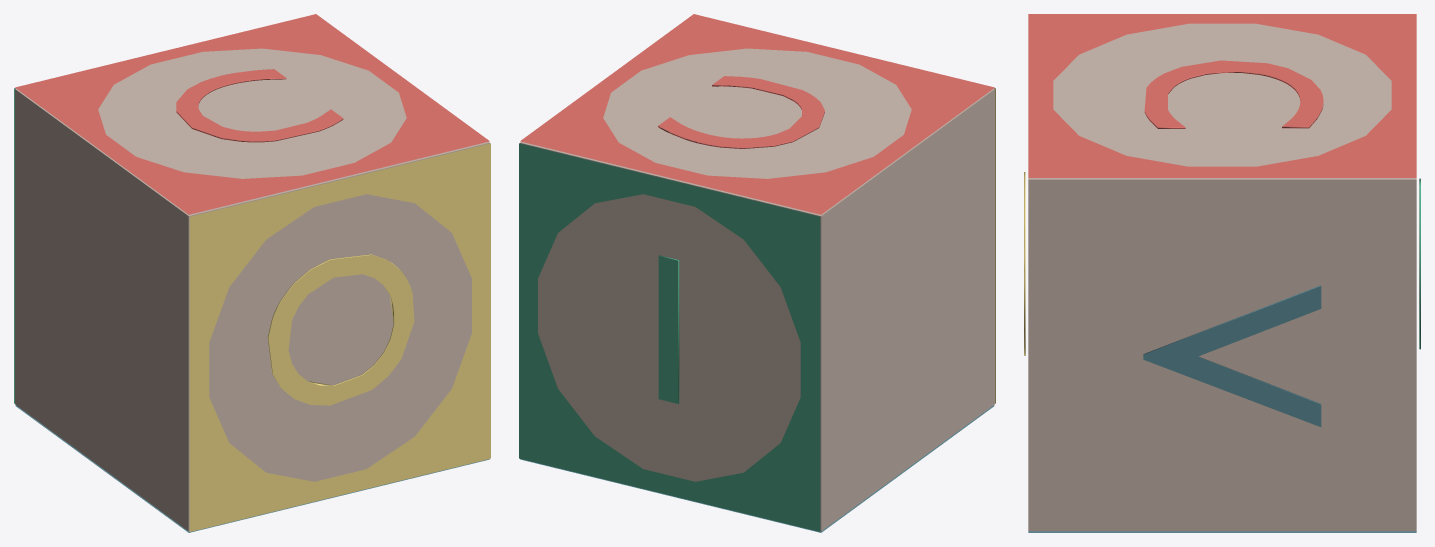
The picture shows the model from 3 angles, left to right: view 1: azimuth 30°, elevation 25°; view 2: azimuth 150°, elevation 25°; view 3: azimuth 270°, elevation 25°; orthographic projection. The views are drawn at different scales.
Parts seen in each view (by area): view 1: cube; view 2: cube; view 3: cube.
Part boxes in pixels (x1,y1,x2,y2): cube: (14, 14, 490, 532); cube: (519, 14, 995, 532); cube: (1024, 14, 1420, 532).
Size of the model in its own units: 0.0453 by 0.046 by 0.046.
